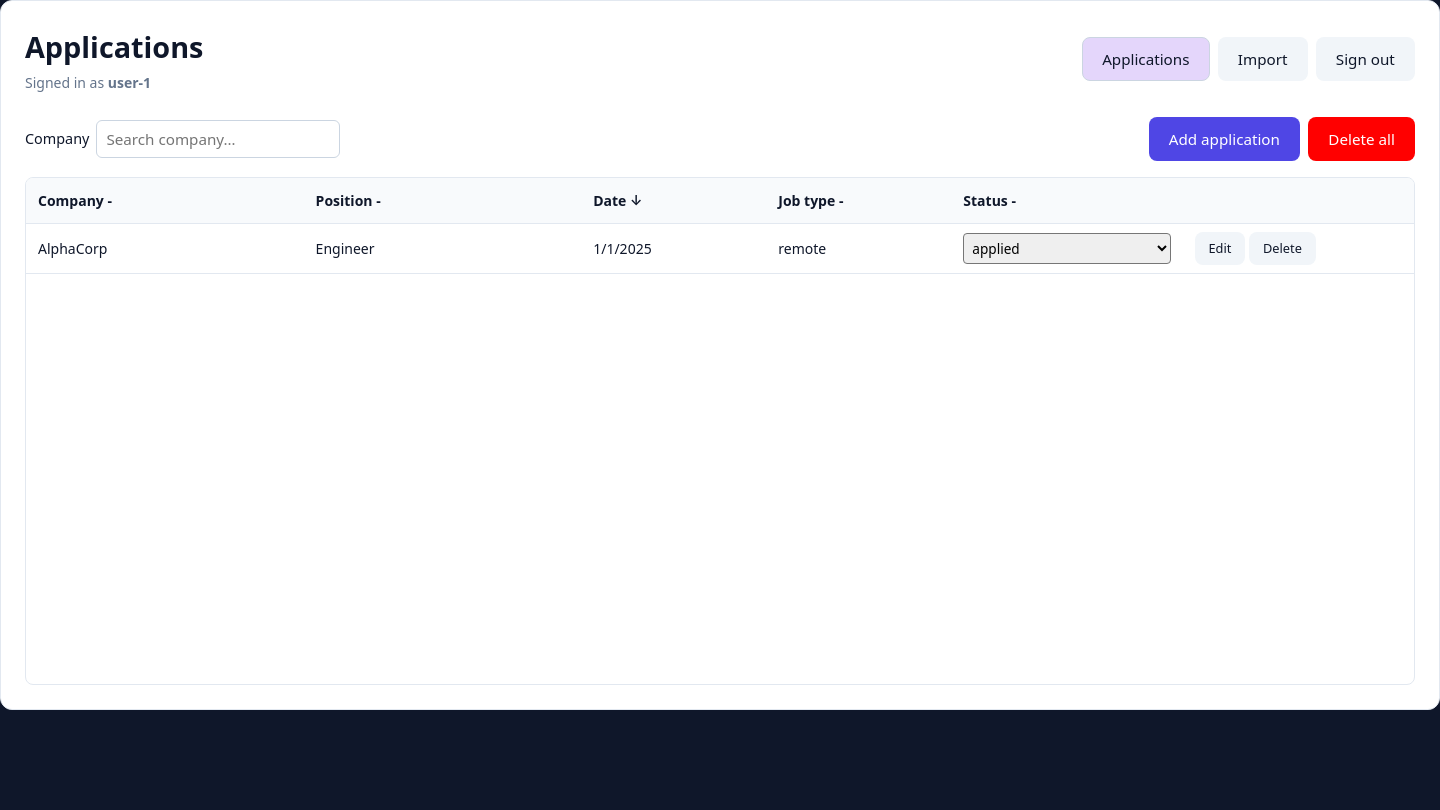
Test: ApplicationsPage › deletes an application after confirming the modal
The image size is (1440, 810).
Click the button "Delete" at (1282, 249), box [1249,232,1316,265]
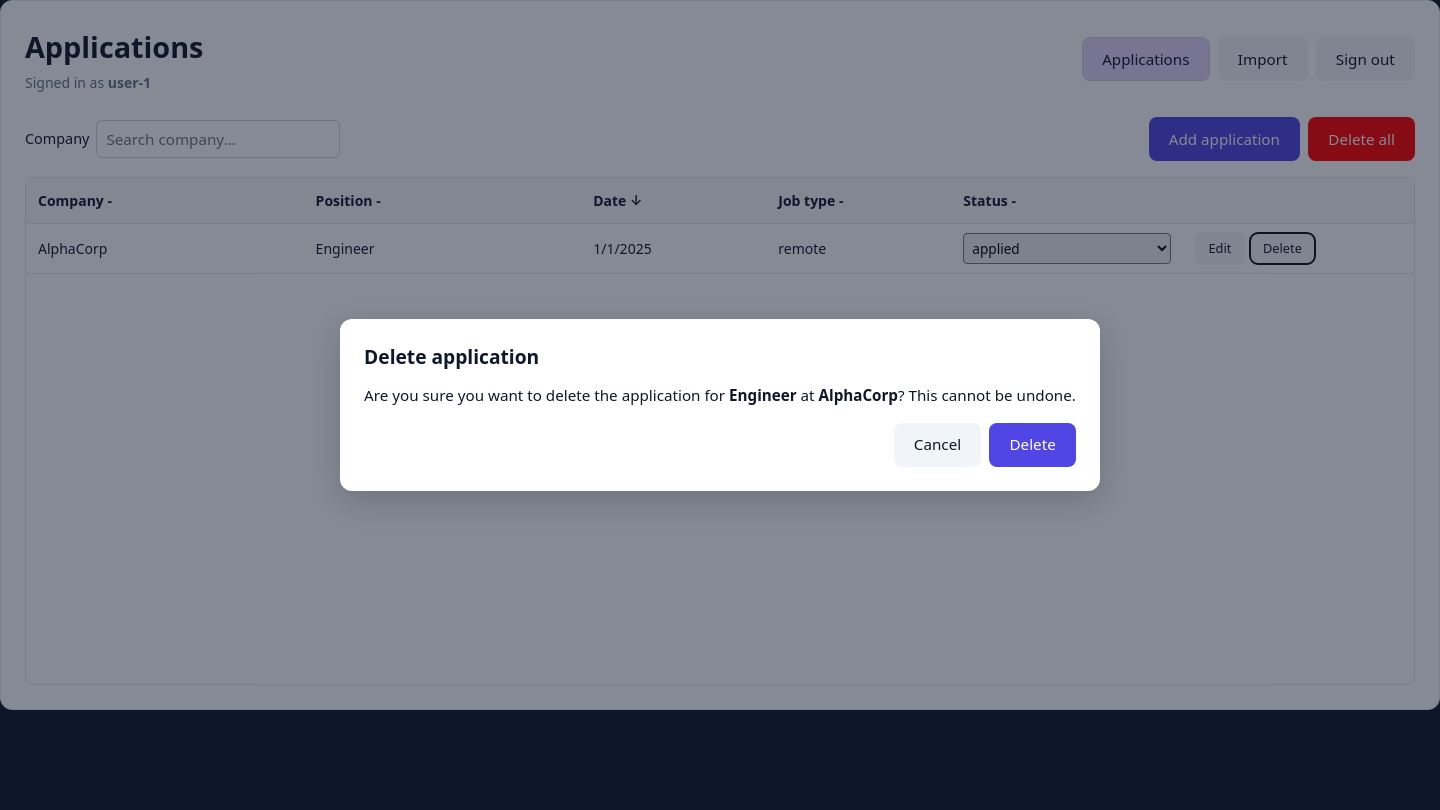
Click the button "Delete" at (1033, 445), box [989,423,1076,467]
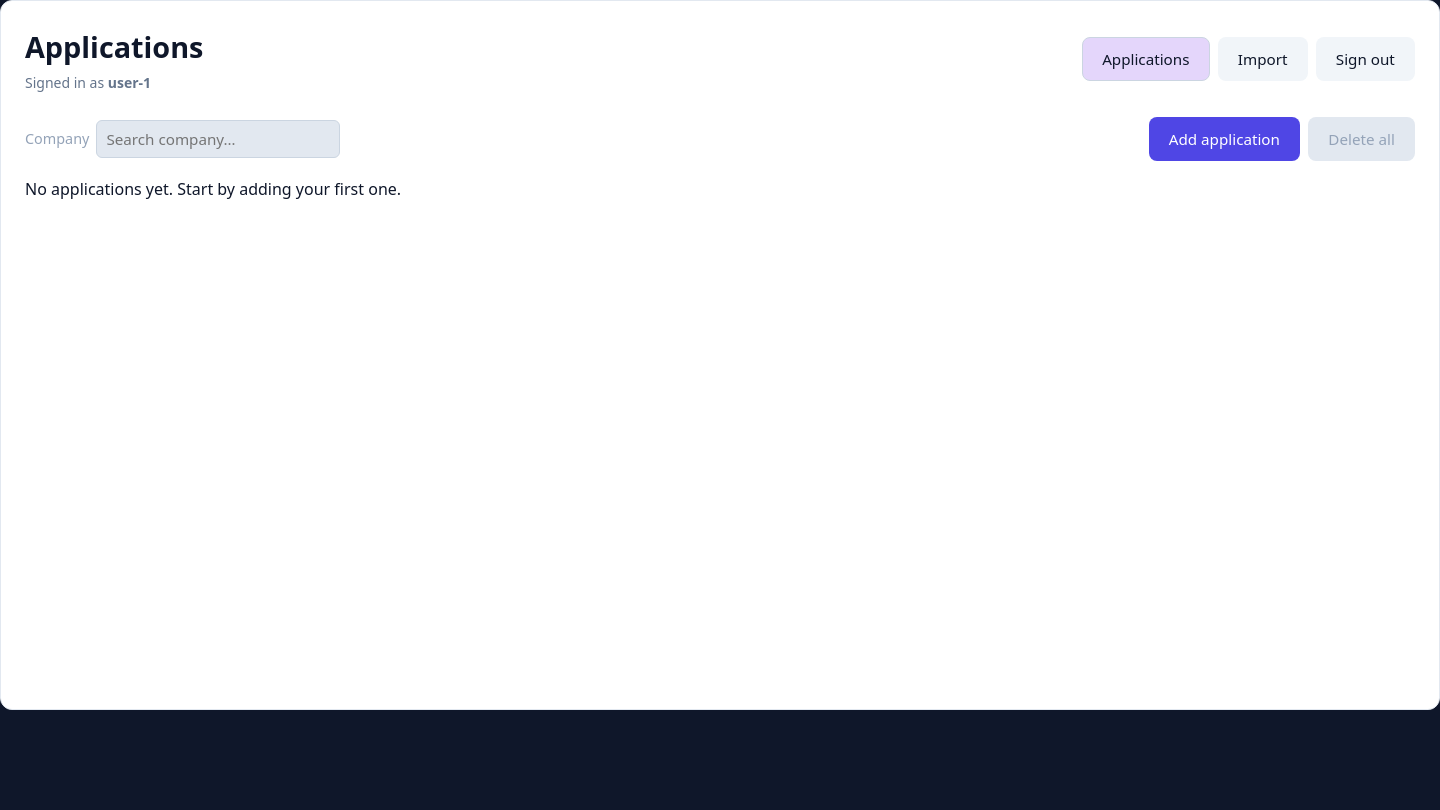
Now the text "AlphaCorp" is gone
